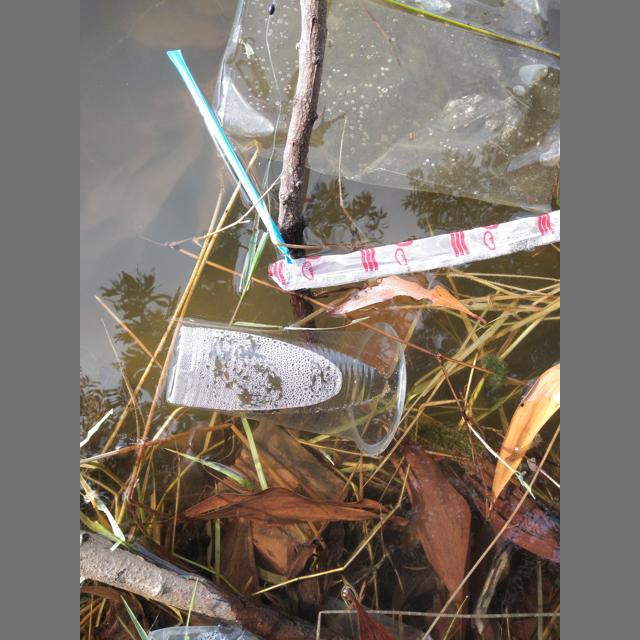litter: (212, 0, 559, 213), (166, 318, 406, 455), (167, 50, 296, 266), (268, 210, 560, 291), (322, 595, 434, 640), (148, 626, 266, 640)
